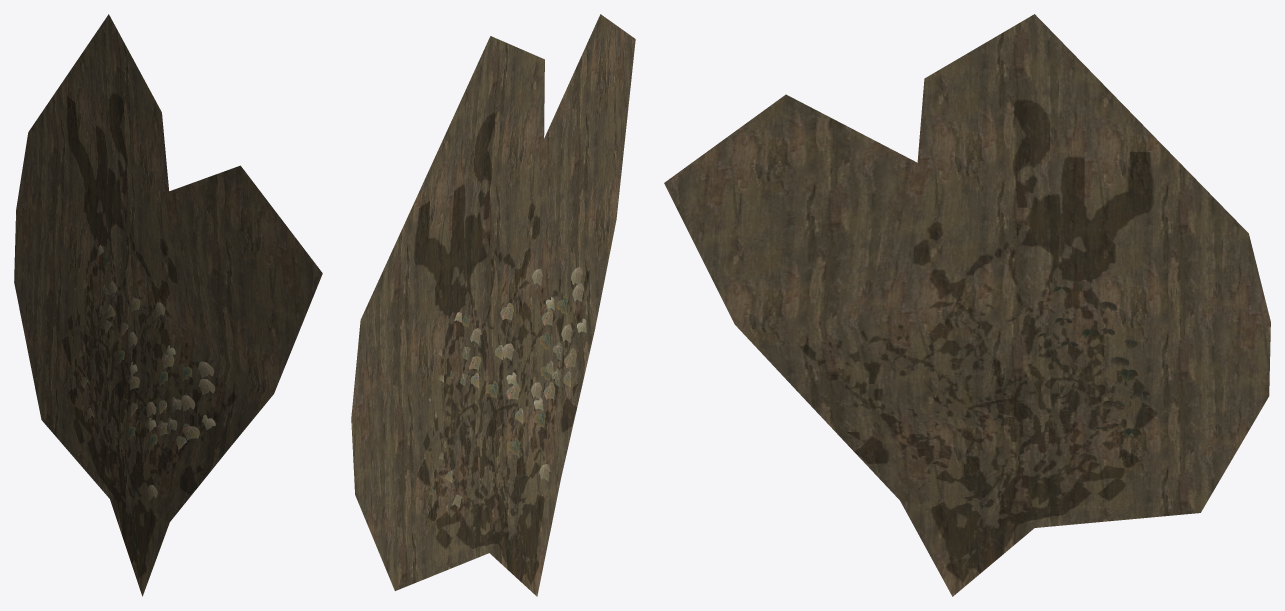
File: SM_Ivy_3.fbx
The picture shows the model from 3 angles, left to right: view 1: azimuth 30°, elevation 25°; view 2: azimuth 150°, elevation 25°; view 3: azimuth 270°, elevation 25°; orthographic projection. The views are drawn at different scales.
Parts seen in each view (by area): view 1: SM_Ivy_3_LOD0; view 2: SM_Ivy_3_LOD0; view 3: SM_Ivy_3_LOD0.
Boxes of the visible parts, box(x1,y1,x2,y2) form: SM_Ivy_3_LOD0: box(14, 14, 322, 596); SM_Ivy_3_LOD0: box(351, 14, 635, 596); SM_Ivy_3_LOD0: box(664, 14, 1270, 596).
Bounding box in the file's own units: 29.02 × 312 × 332.
